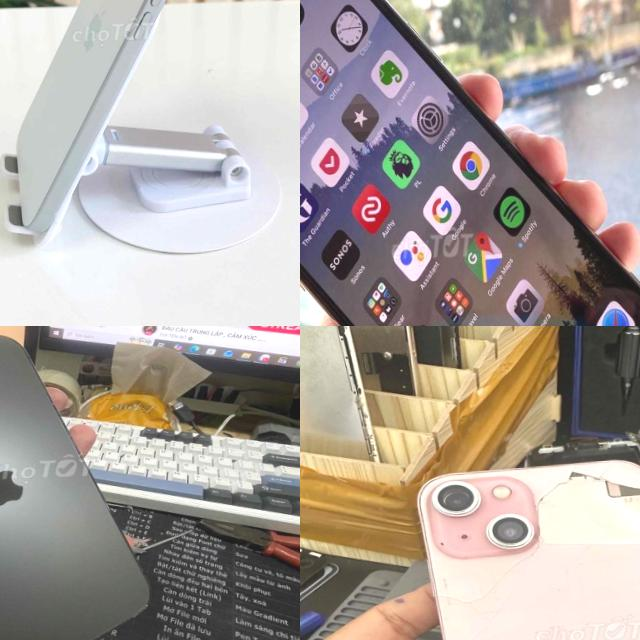gen_11: (300, 0, 640, 326)
gen_12_13: (0, 326, 157, 640)
gen_15: (0, 0, 243, 248)
gen_x_xs: (418, 460, 640, 640)
physical_damage: (430, 554, 560, 640), (529, 466, 640, 557)
scratch: (431, 534, 460, 557)
